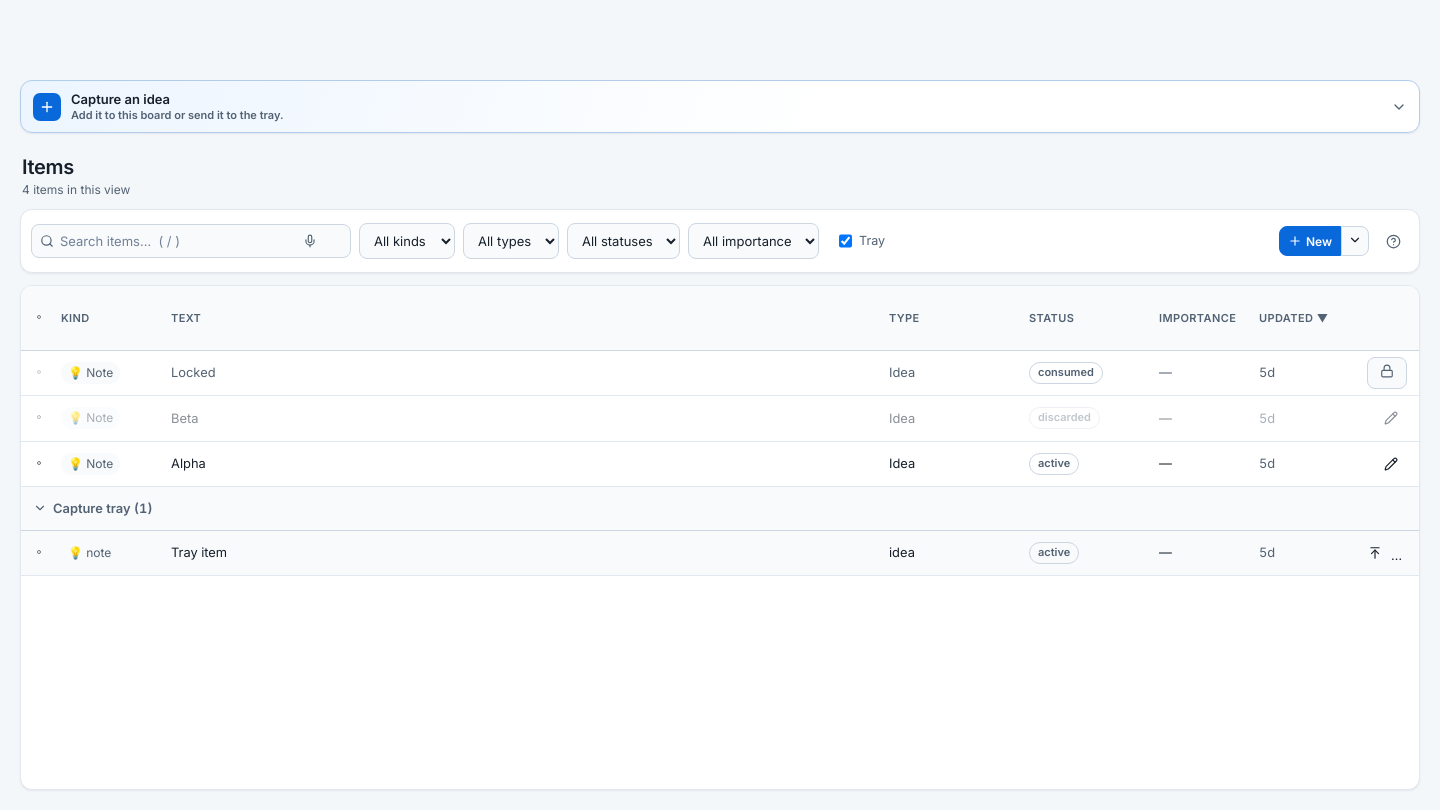
Test: EasyEdit view › searches and narrows rows — case:easy-edit-02
The image size is (1440, 810).
In the search field labelled "Search items": (201, 241) [60,223,342,259], type "alpha"
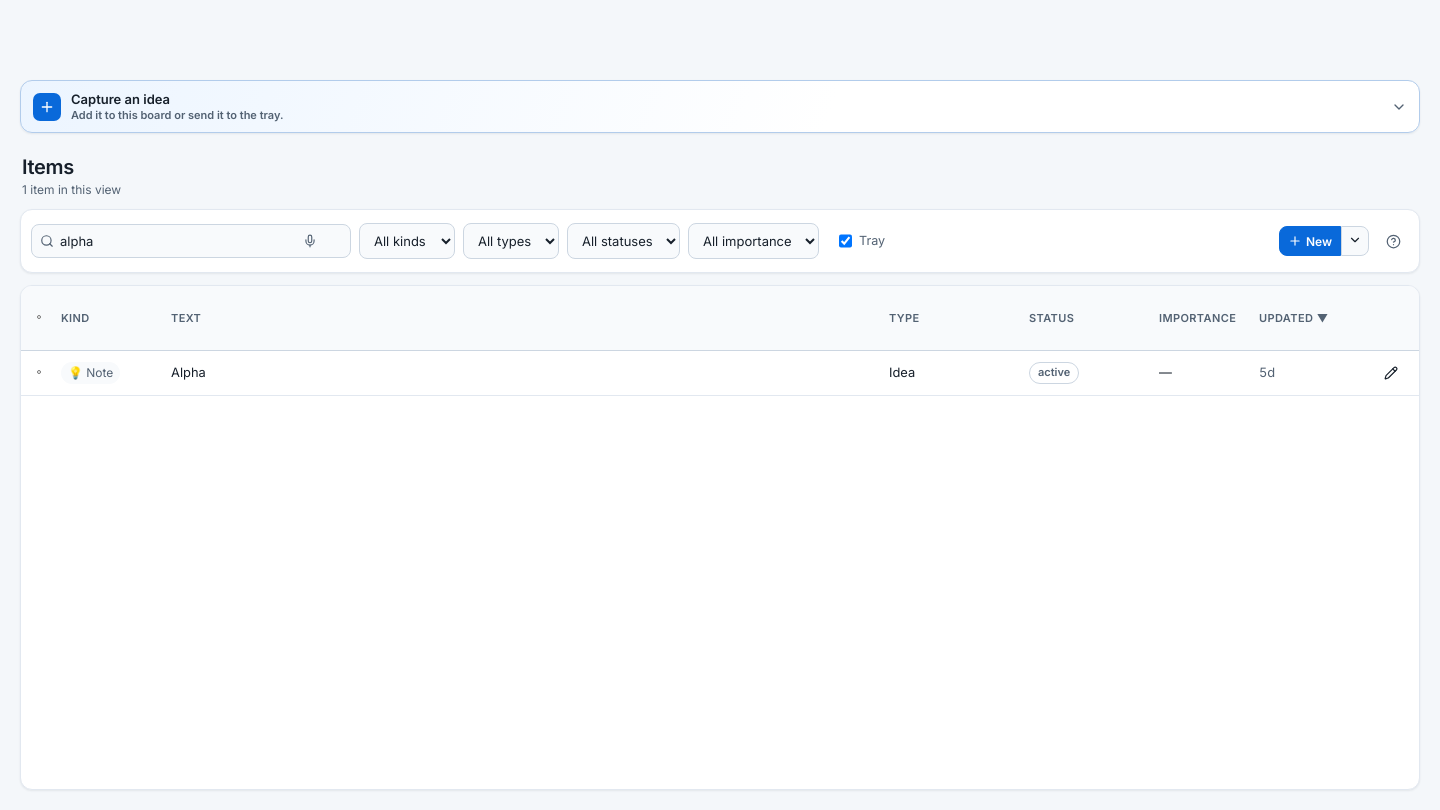
expect the text "Alpha" is shown: met, box [171,365,206,380]
expect the text "Beta" is gone: met
